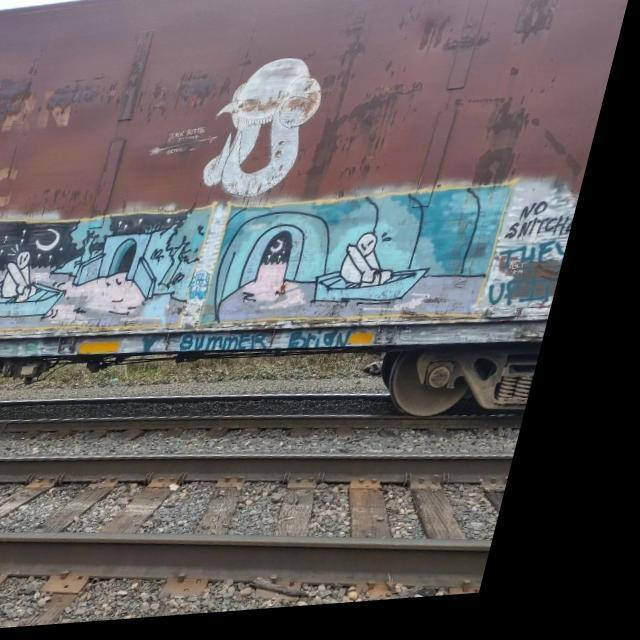nonspitting: (0, 180, 569, 323), (203, 56, 321, 194), (181, 330, 350, 350)
